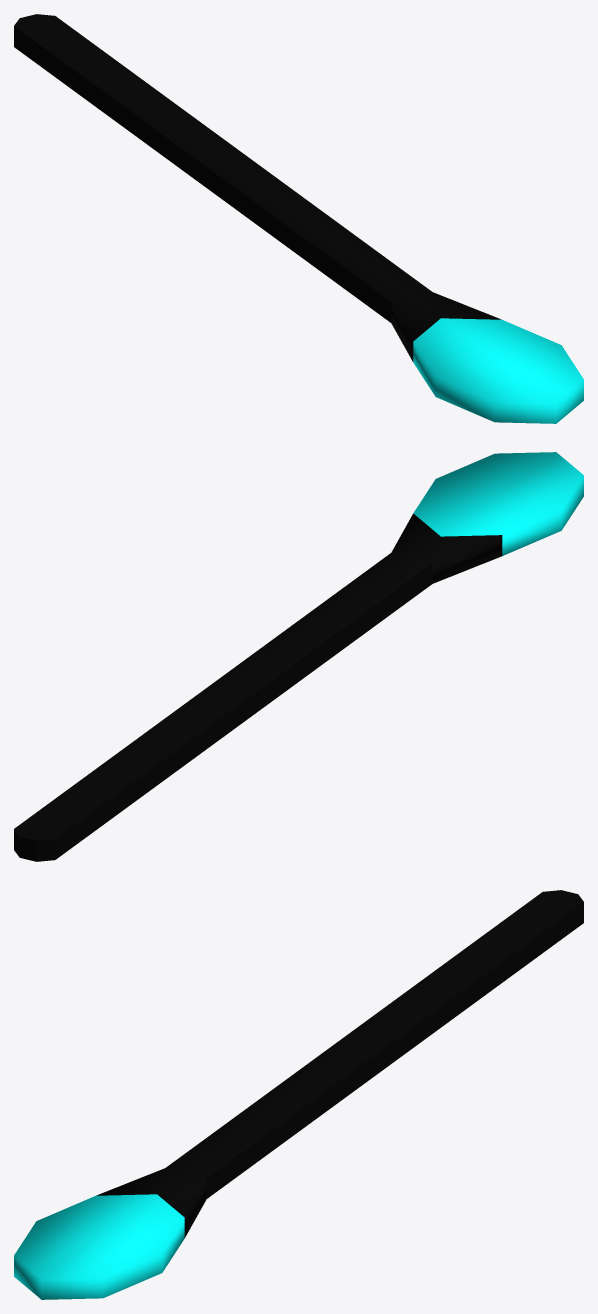
File: spoon_09_origin_gt_3.dae
3 views of the same model, one above another, from view 1: azimuth 30°, elevation 25°; view 2: azimuth 150°, elevation 25°; view 3: azimuth 330°, elevation 25° (orthographic).
Visible parts, largest first — view 1: group_0 (×3); view 2: group_0 (×3); view 3: group_0 (×3).
Boxes of the visible parts, box(x1,y1,x2,y2) form: group_0 (×3): box(14, 14, 583, 423); group_0 (×3): box(14, 452, 583, 861); group_0 (×3): box(14, 890, 583, 1299).
Bounding box in the file's own units: 1.54 × 11.19 × 0.2467.
